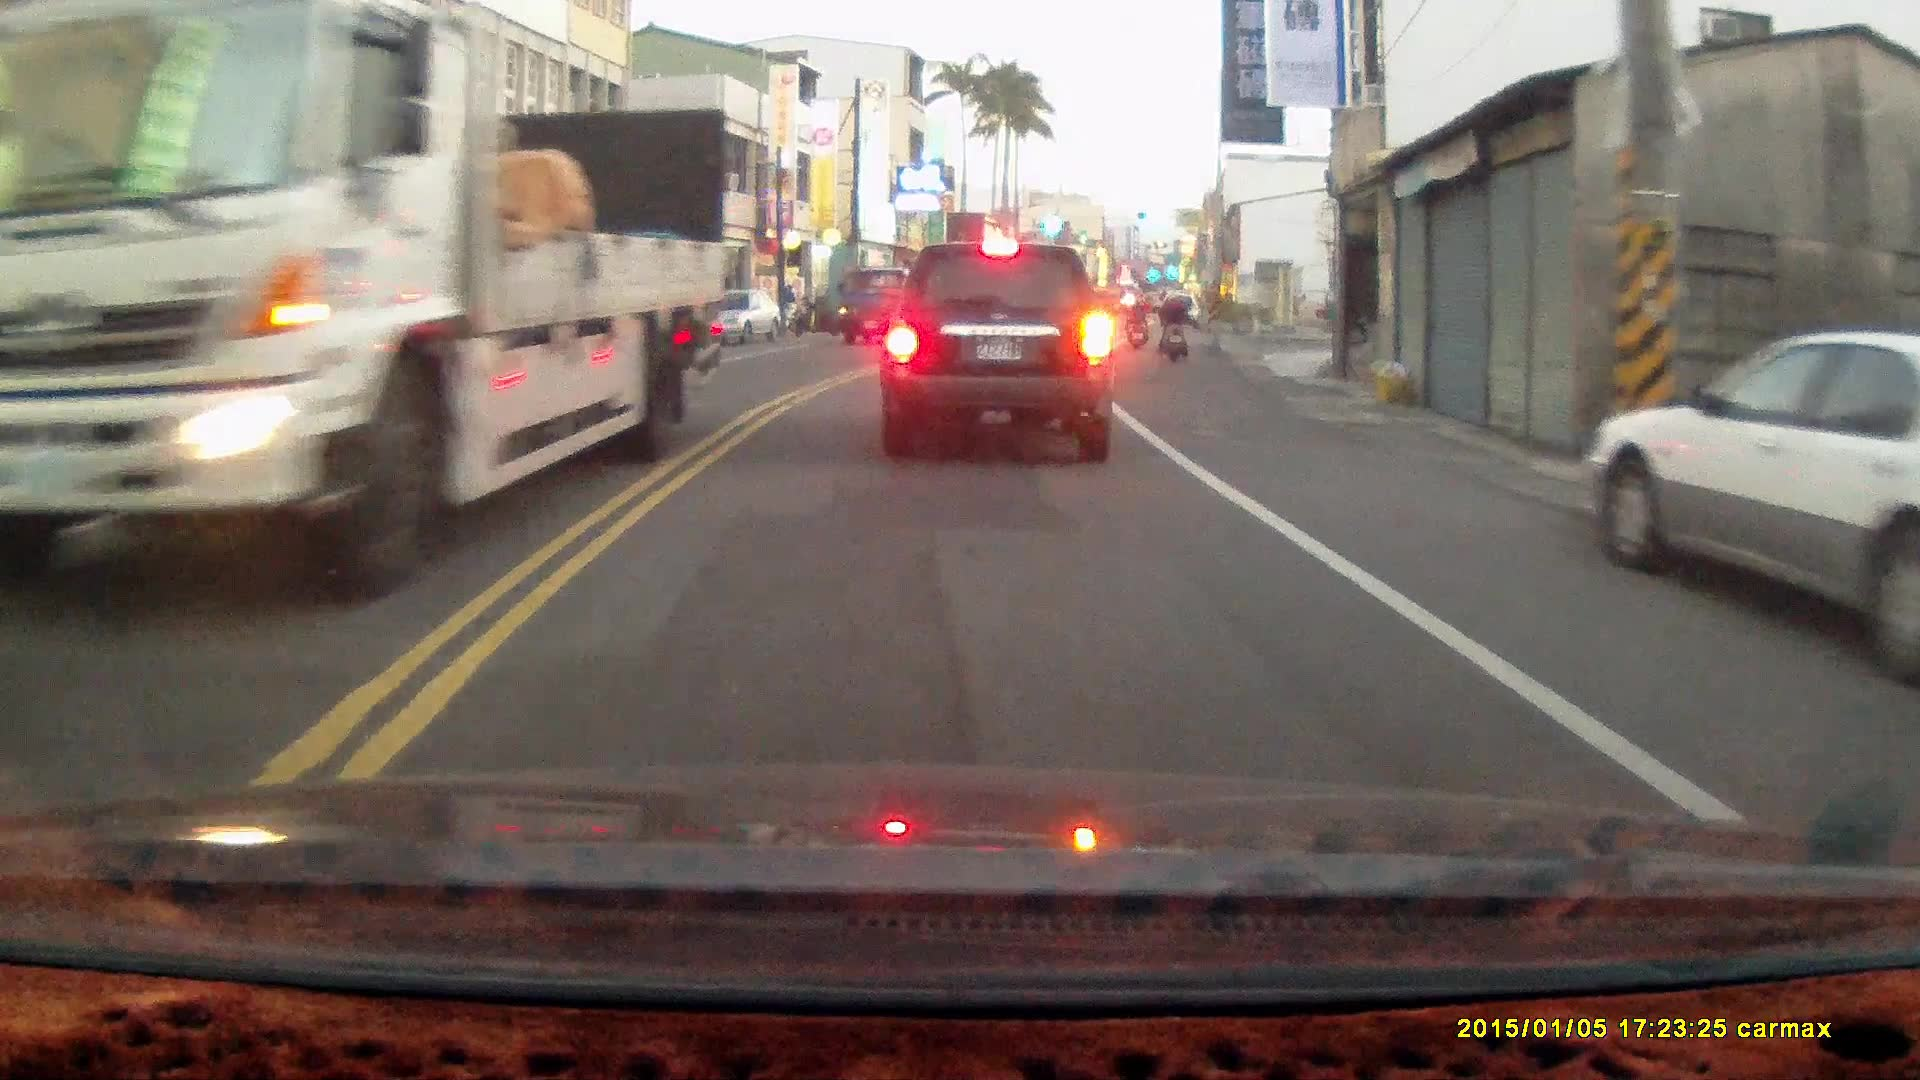rider: (1155, 284, 1186, 363), (1122, 293, 1147, 350)
vehicle: (0, 0, 732, 603), (1580, 328, 1920, 662), (877, 237, 1120, 462), (835, 264, 940, 346), (706, 288, 785, 346)
